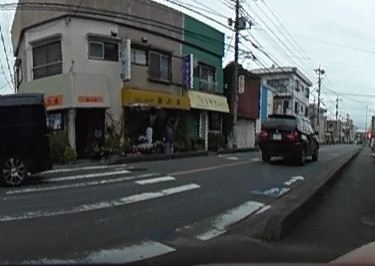person: (162, 124, 175, 153)
